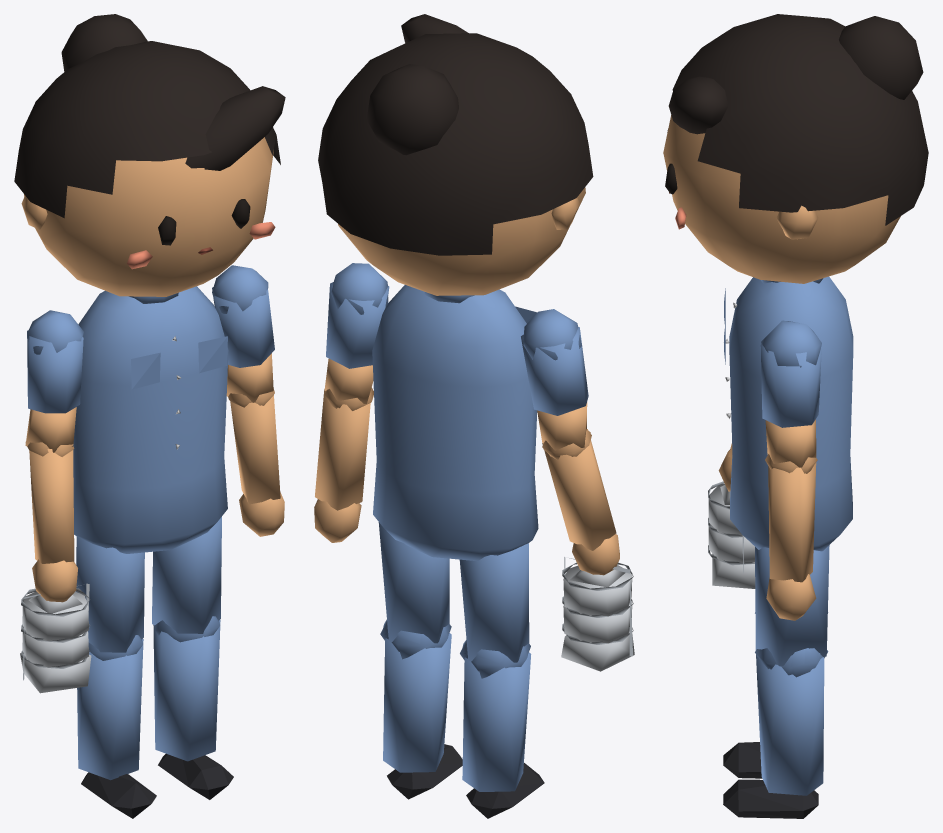
The model's file is era3_factory_woman.glb.
The picture shows the model from 3 angles, left to right: view 1: azimuth 30°, elevation 25°; view 2: azimuth 150°, elevation 25°; view 3: azimuth 270°, elevation 25°; orthographic projection. The views are drawn at different scales.
Parts seen in each view (by area): view 1: head, body, shin_L, shin_R, arm_R, arm_L, leg_R, leg_L, prop_tiffin, forearm_R, forearm_L; view 2: head, body, shin_R, shin_L, arm_R, leg_R, arm_L, prop_tiffin, leg_L, forearm_L, forearm_R; view 3: head, body, shin_L, arm_L, forearm_L, leg_L, prop_tiffin, shin_R.
Part boxes in pixels (<box>): head: <box>14,14,285,296</box>; body: <box>73,286,228,553</box>; shin_L: <box>153,620,233,799</box>; shin_R: <box>77,639,156,818</box>; arm_R: <box>25,310,83,456</box>; arm_L: <box>212,265,274,407</box>; leg_R: <box>75,536,144,660</box>; leg_L: <box>152,517,221,642</box>; prop_tiffin: <box>20,583,91,693</box>; forearm_R: <box>29,442,77,602</box>; forearm_L: <box>230,391,284,536</box>; head: <box>318,14,593,295</box>; body: <box>372,285,538,561</box>; shin_R: <box>462,640,544,818</box>; shin_L: <box>383,619,462,799</box>; arm_R: <box>521,309,591,456</box>; leg_R: <box>459,543,530,671</box>; arm_L: <box>324,263,389,410</box>; prop_tiffin: <box>561,557,634,671</box>; leg_L: <box>378,522,451,651</box>; forearm_L: <box>314,388,373,542</box>; forearm_R: <box>542,429,619,575</box>; head: <box>663,14,928,283</box>; body: <box>724,276,853,551</box>; shin_L: <box>723,648,824,818</box>; arm_L: <box>760,320,821,473</box>; forearm_L: <box>766,460,816,620</box>; leg_L: <box>755,545,829,675</box>; prop_tiffin: <box>708,481,755,588</box>; shin_R: <box>723,612,762,778</box>.
Size of the model in its own units: 0.5913 by 1.48 by 0.4567.
